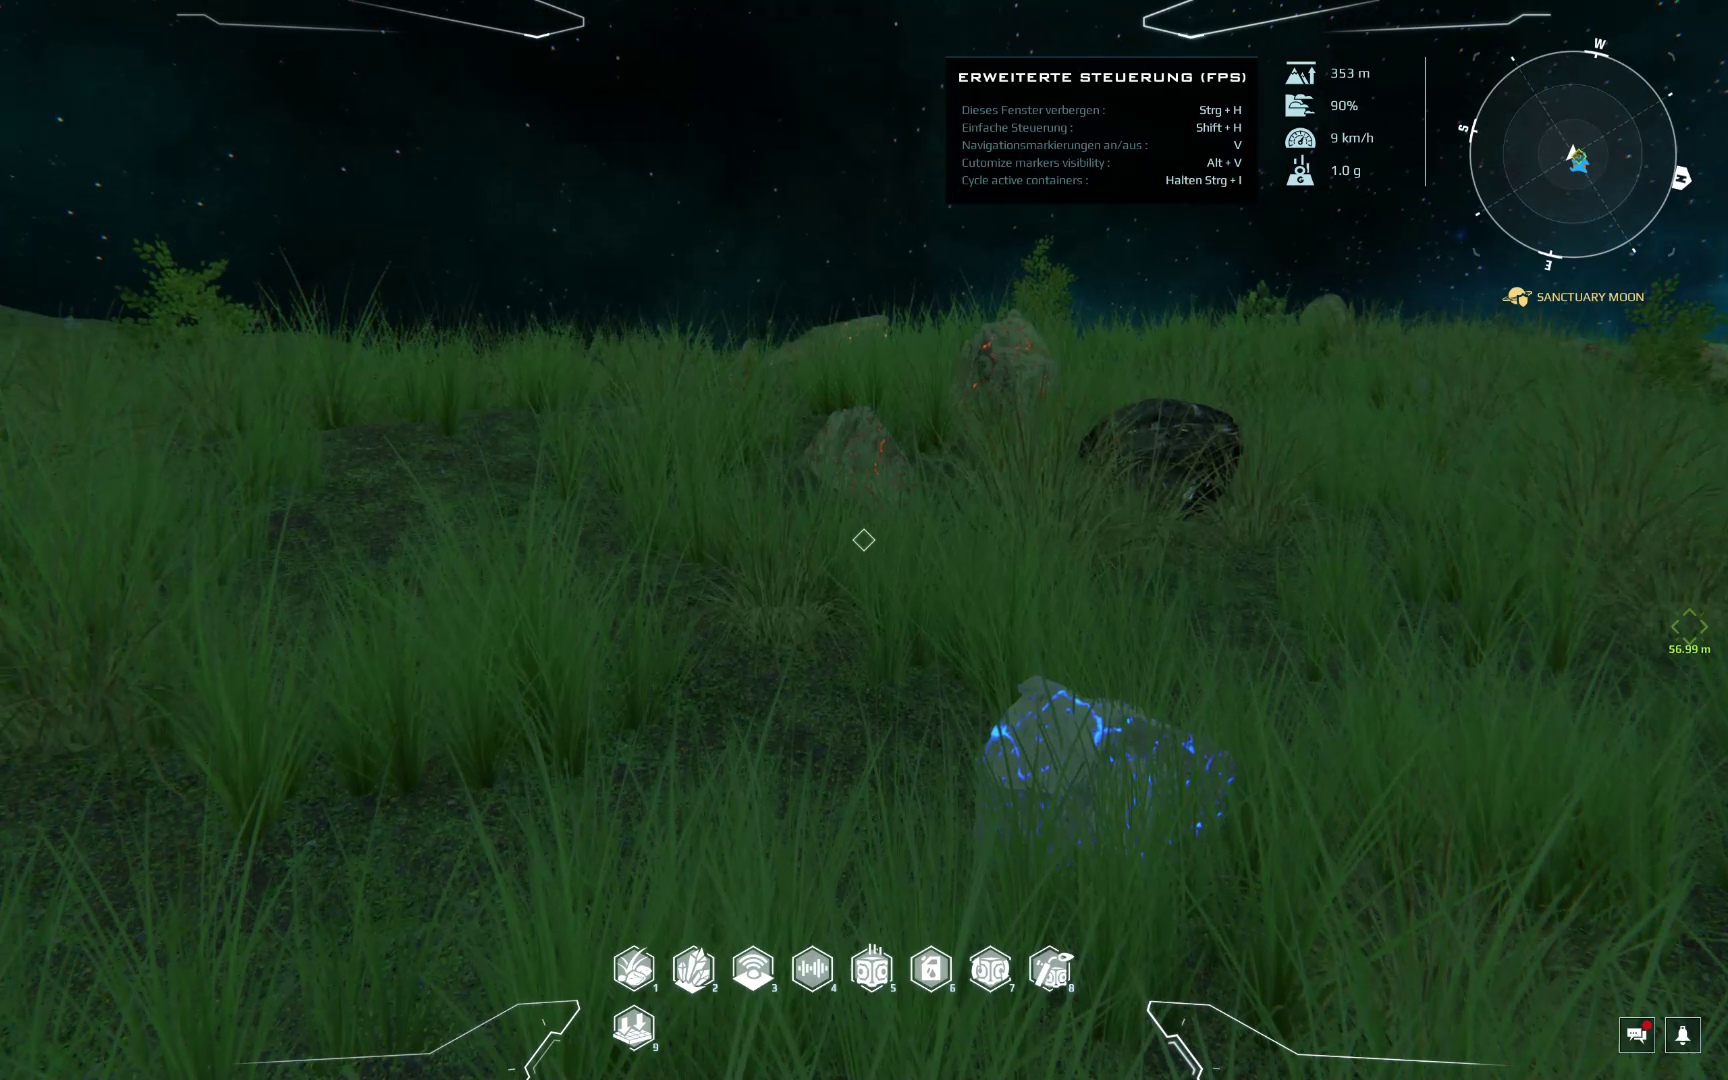Ore: (977, 671, 1244, 859), (1082, 396, 1247, 511), (952, 314, 1057, 439), (802, 404, 922, 515), (778, 311, 894, 361)
